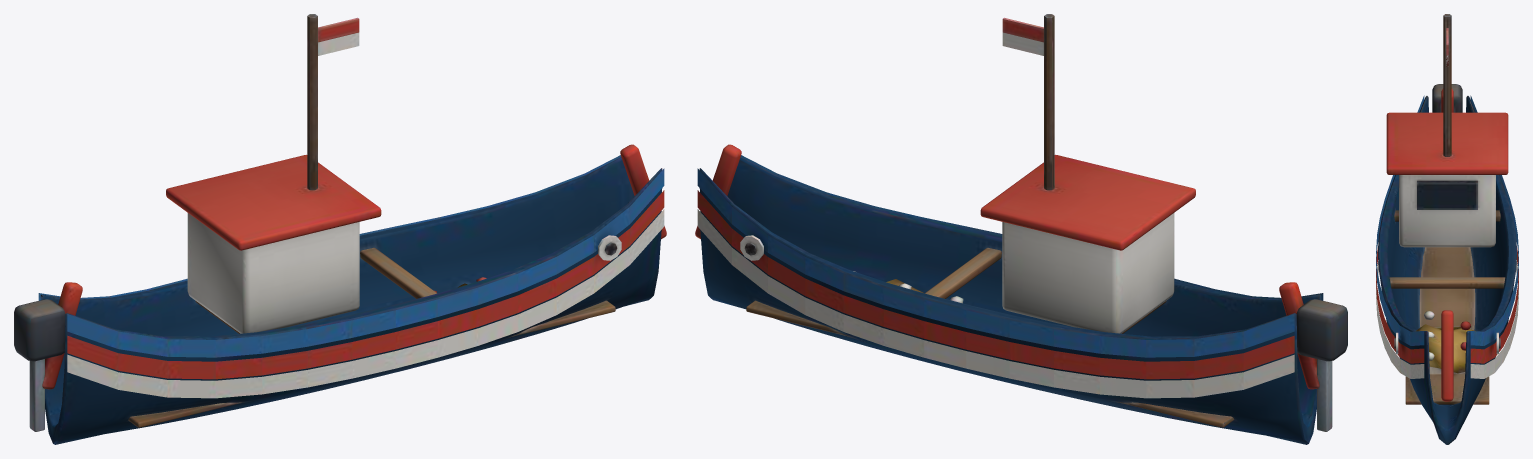
Rendered from boat_a.glb.
3 renders of one model, left to right at view 1: azimuth 30°, elevation 25°; view 2: azimuth 150°, elevation 25°; view 3: azimuth 270°, elevation 25°, orthographic. The views are drawn at different scales.
Parts seen in each view (by area): view 1: boat_a; view 2: boat_a; view 3: boat_a.
Part boxes in pixels (x1,y1,x2,y2): boat_a: [14, 14, 666, 444]; boat_a: [695, 14, 1347, 444]; boat_a: [1376, 14, 1518, 444].
Bounding box in the file's own units: 4.96 × 2.7 × 1.17.
1 material, 1 textured.
